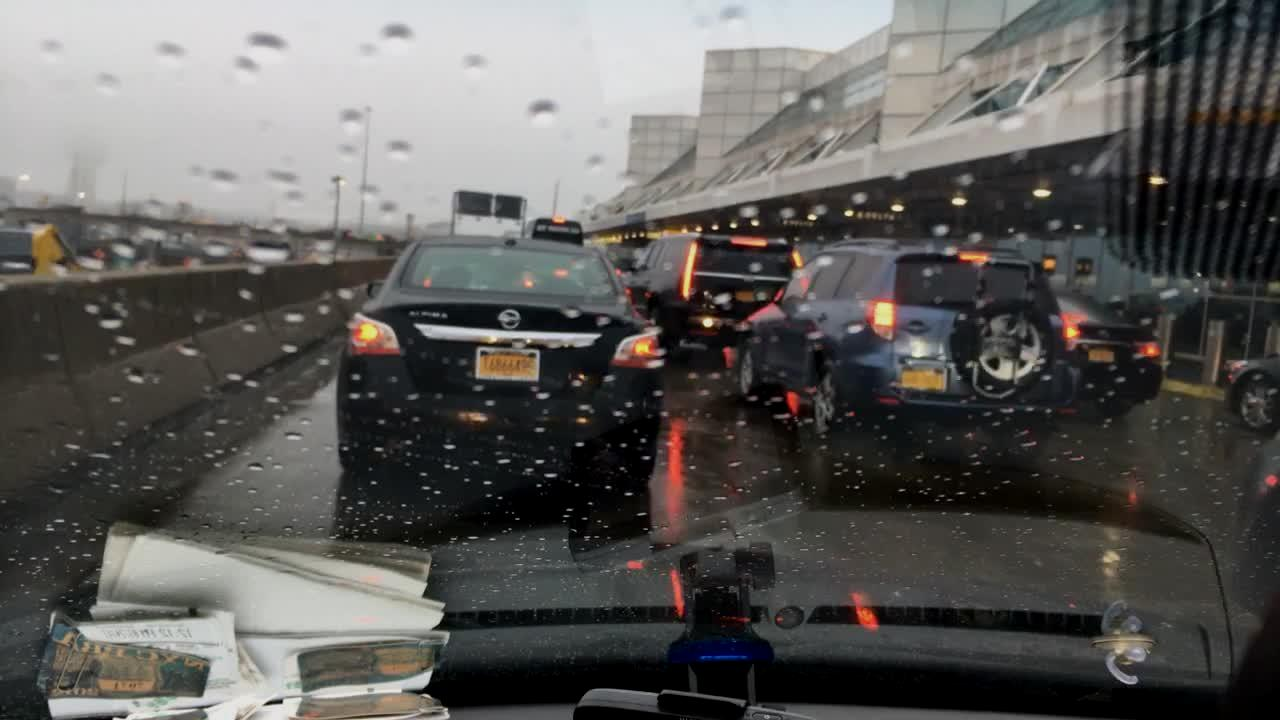Nissan: (486, 293, 532, 337)
